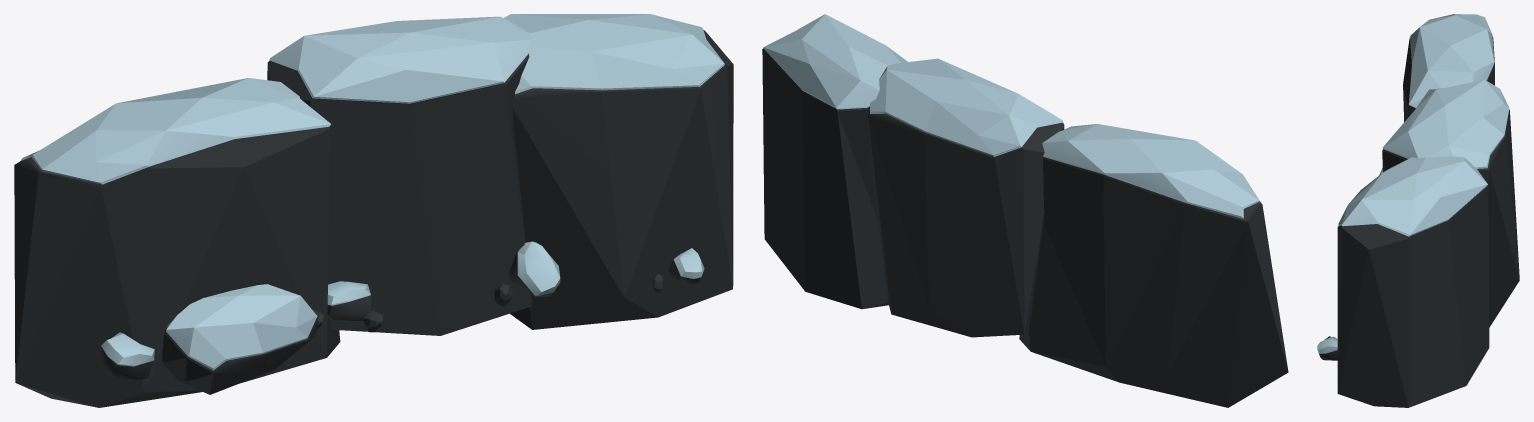
File: Geo_Cliff01.fbx
3 renders of one model, left to right at view 1: azimuth 30°, elevation 25°; view 2: azimuth 150°, elevation 25°; view 3: azimuth 270°, elevation 25°, orthographic. The views are drawn at different scales.
Parts seen in each view (by area): view 1: StoneSmall_Mesh5; view 2: StoneSmall_Mesh5; view 3: StoneSmall_Mesh5.
Part boxes in pixels (box(x1,y1,x2,y2)): StoneSmall_Mesh5: box(14, 14, 733, 407); StoneSmall_Mesh5: box(762, 14, 1288, 407); StoneSmall_Mesh5: box(1317, 14, 1519, 407).
Bounding box in the file's own units: 2074 × 905 × 736.
